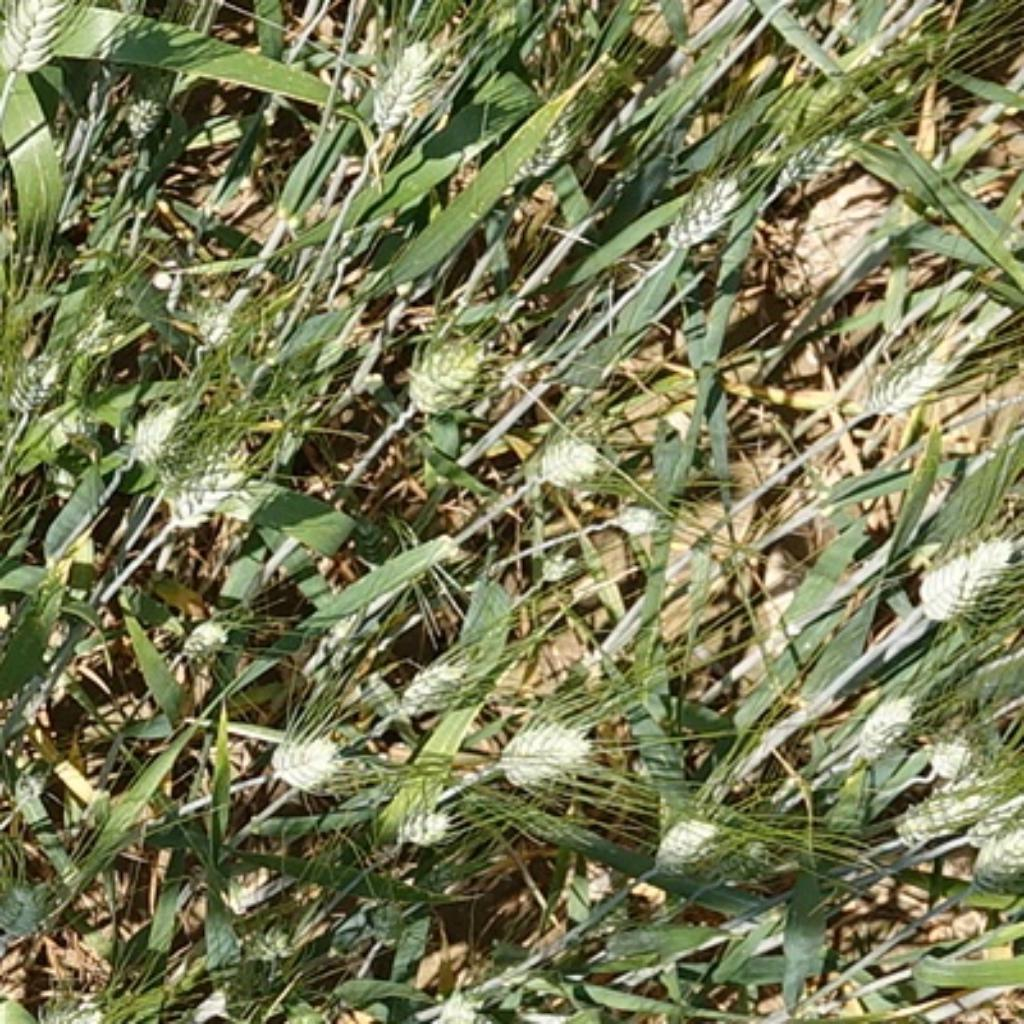0-0: (640, 783, 780, 883), (851, 306, 978, 416), (910, 519, 1024, 637), (151, 409, 263, 524), (888, 755, 1024, 842), (366, 24, 458, 133), (396, 317, 499, 414), (501, 89, 586, 202), (51, 286, 148, 373), (389, 632, 491, 714), (491, 704, 596, 783), (772, 118, 870, 199), (665, 163, 747, 248), (837, 678, 919, 762), (243, 893, 335, 967), (5, 335, 71, 430), (258, 719, 348, 788), (529, 421, 606, 494), (178, 294, 260, 361), (0, 0, 71, 77), (916, 729, 1000, 788), (0, 869, 57, 954), (386, 793, 466, 850), (117, 394, 181, 463), (962, 824, 1024, 893), (117, 79, 174, 140), (179, 611, 235, 660)
